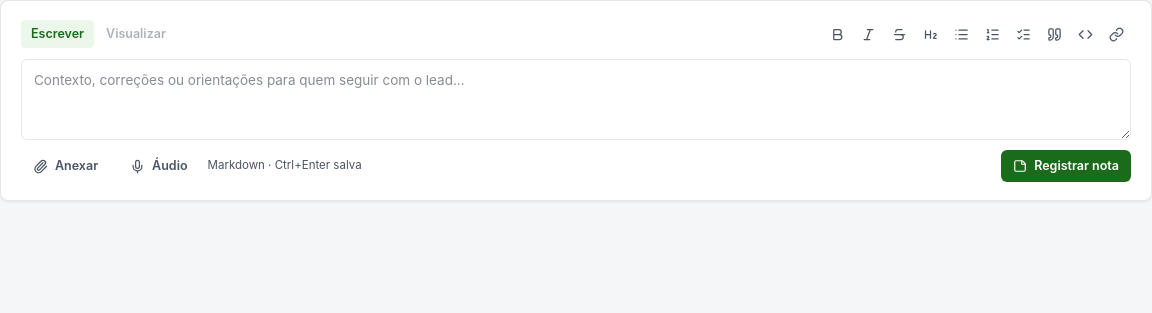
Test: NoteComposer — menções › abre a lista ao digitar @ e filtra enquanto digita
Type "avisar @" into the text box named "Corpo da nota".
click(576, 100); type("avisar @")  # box [21, 59, 1131, 140]
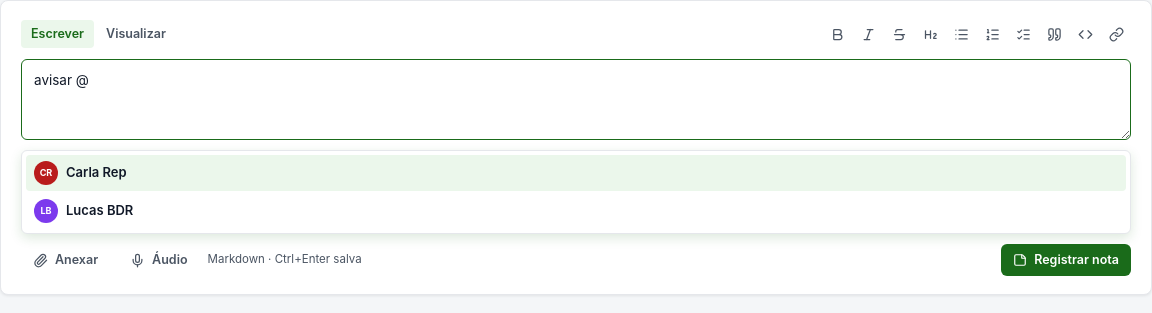
Expected: the list is shown, [21, 150, 1131, 234]
Type "car" into the text box named "Corpo da nota".
click(576, 100); type("car")  # box [21, 59, 1131, 140]
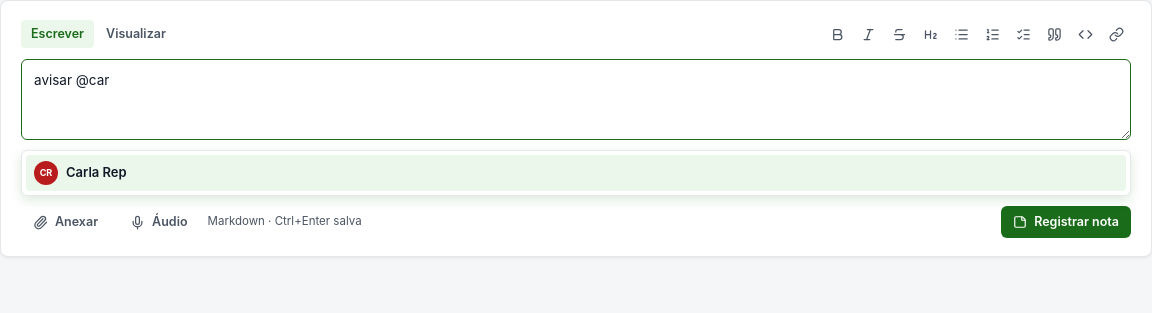
Expected: the text "Carla Rep" is shown, [66, 163, 127, 183]
Expected: the option "Lucas BDR" is gone
